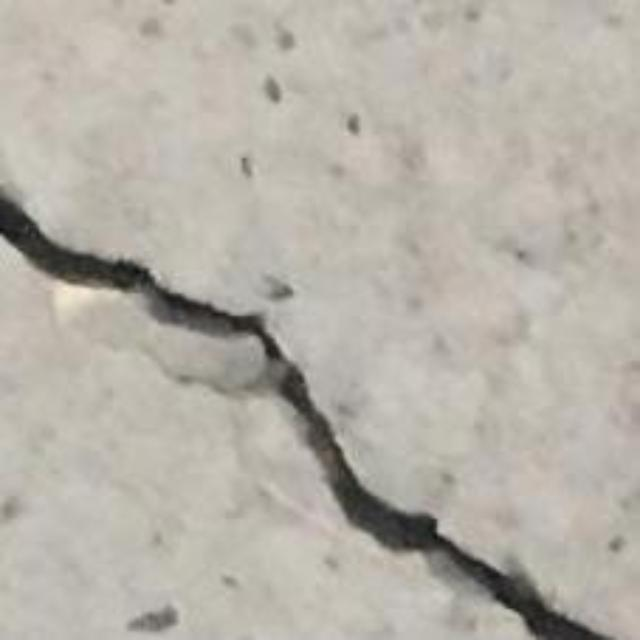crack: (0, 189, 614, 639)
